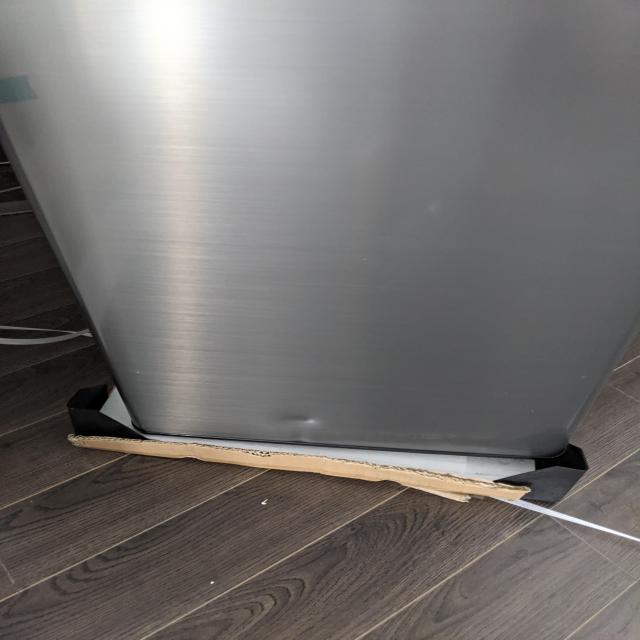dents: (263, 408, 344, 442)
